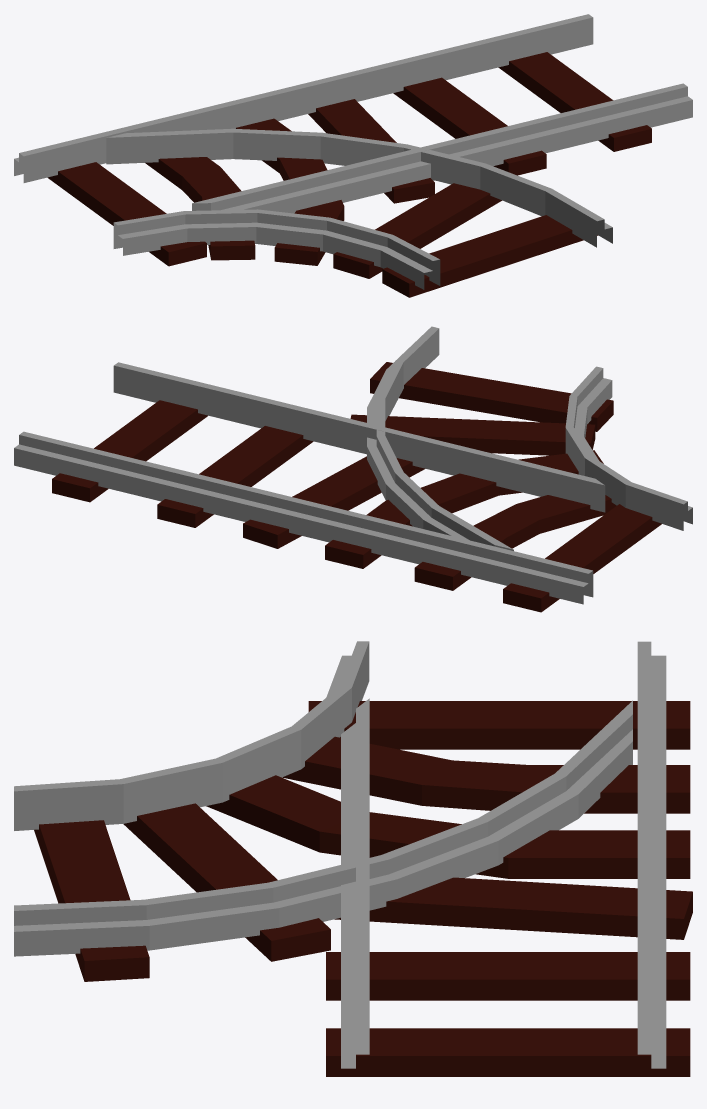
The model's file is Kurve_m_Weiche2.FBX.
3 renders of one model, top to bottom at view 1: azimuth 30°, elevation 25°; view 2: azimuth 150°, elevation 25°; view 3: azimuth 270°, elevation 25°, orthographic. The views are drawn at different scales.
Visible parts, largest first — view 1: Kurve_m_Weiche; view 2: Kurve_m_Weiche; view 3: Kurve_m_Weiche.
Boxes of the visible parts, x1,y1,x2,y2 form: Kurve_m_Weiche: (14,14,692,297); Kurve_m_Weiche: (14,326,692,612); Kurve_m_Weiche: (14,641,692,1076).
Size of the model in its own units: 0.3939 by 0.0249 by 0.2734.
